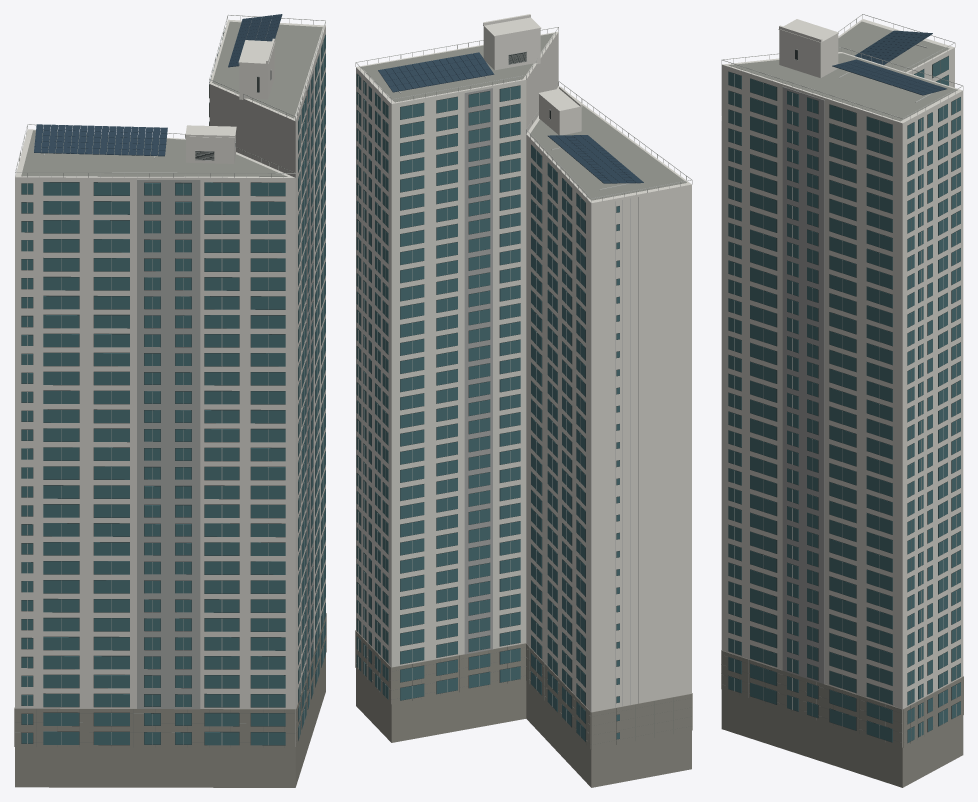
File: bespoke-maple-xi-209.glb
The picture shows the model from 3 angles, left to right: view 1: azimuth 30°, elevation 25°; view 2: azimuth 150°, elevation 25°; view 3: azimuth 270°, elevation 25°; orthographic projection. The views are drawn at different scales.
Visible parts, largest first — view 1: 209_e0_window_glass, 209_wing_0_observed_massing, 209_e0_blank_wall_joints, 209_unverified_solid_ground_mass, 209_e0_individually_sized_reveals, 209_wing_0_service_roof, 209_wing_0_roof_rail, 209_individual_roof_panel_array_0; view 2: 209_wing_0_observed_massing, 209_e0_window_glass, 209_unverified_solid_ground_mass, 209_e0_individually_sized_reveals, 209_e0_blank_wall_joints, 209_wing_0_service_roof, 209_wing_0_roof_rail, 209_individual_roof_panel_array_0, 209_e0_stone_vertical_joints; view 3: 209_e0_window_glass, 209_wing_0_observed_massing, 209_e0_blank_wall_joints, 209_unverified_solid_ground_mass, 209_e0_individually_sized_reveals, 209_wing_0_service_roof, 209_wing_0_roof_rail, 209_individual_roof_panel_array_0.
Part boxes in pixels (<box>): 209_e0_window_glass: <box>21,35,325,745</box>; 209_wing_0_observed_massing: <box>15,19,325,746</box>; 209_e0_blank_wall_joints: <box>137,57,313,709</box>; 209_unverified_solid_ground_mass: <box>14,613,326,787</box>; 209_e0_individually_sized_reveals: <box>21,28,325,745</box>; 209_wing_0_service_roof: <box>21,21,322,176</box>; 209_wing_0_roof_rail: <box>15,14,325,744</box>; 209_individual_roof_panel_array_0: <box>34,14,282,156</box>; 209_wing_0_observed_massing: <box>356,14,691,748</box>; 209_e0_window_glass: <box>356,74,619,741</box>; 209_unverified_solid_ground_mass: <box>355,630,692,787</box>; 209_e0_individually_sized_reveals: <box>357,52,619,741</box>; 209_e0_blank_wall_joints: <box>464,51,638,707</box>; 209_wing_0_service_roof: <box>361,33,686,200</box>; 209_wing_0_roof_rail: <box>355,27,692,736</box>; 209_individual_roof_panel_array_0: <box>378,52,643,183</box>; 209_e0_stone_vertical_joints: <box>355,643,691,744</box>; 209_e0_window_glass: <box>728,56,960,742</box>; 209_wing_0_observed_massing: <box>721,19,963,747</box>; 209_e0_blank_wall_joints: <box>782,49,824,683</box>; 209_unverified_solid_ground_mass: <box>721,650,963,787</box>; 209_e0_individually_sized_reveals: <box>728,49,960,743</box>; 209_wing_0_service_roof: <box>729,21,957,121</box>; 209_wing_0_roof_rail: <box>721,14,963,740</box>; 209_individual_roof_panel_array_0: <box>832,30,946,95</box>.
Bounding box in the file's own units: 56.72 × 115 × 36.06.
